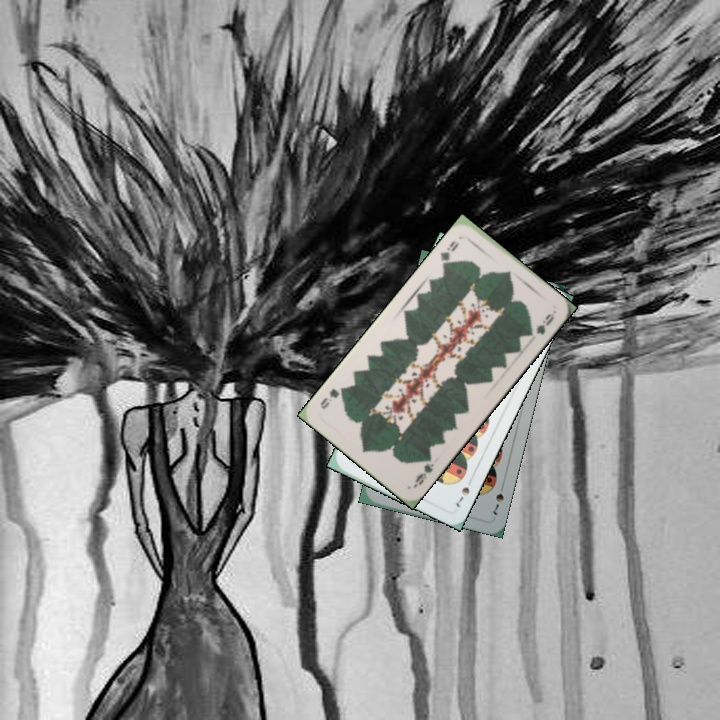G9: (436, 237, 461, 270), (411, 459, 437, 488)
S7: (452, 473, 476, 510), (489, 479, 507, 518)
